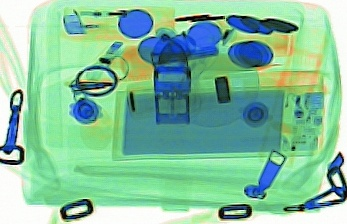lighter: (62, 3, 168, 35)
